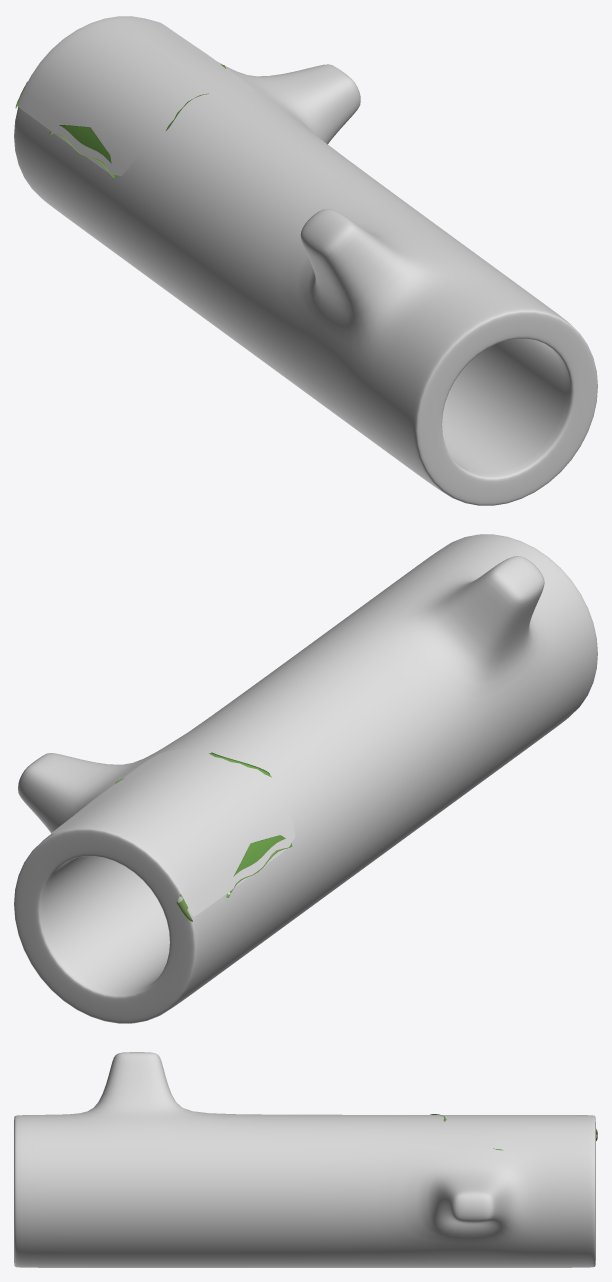
File: Tree trunk.fbx
The picture shows the model from 3 angles, top to bottom: view 1: azimuth 30°, elevation 25°; view 2: azimuth 150°, elevation 25°; view 3: azimuth 270°, elevation 25°; orthographic projection. The views are drawn at different scales.
Visible parts, largest first — view 1: 柱体.003, 柱体.004; view 2: 柱体.003, 柱体.004; view 3: 柱体.003.
Part boxes in pixels (x1,y1,x2,y2): 柱体.003: [14, 16, 597, 505]; 柱体.004: [15, 64, 225, 177]; 柱体.003: [14, 534, 597, 1023]; 柱体.004: [115, 752, 292, 921]; 柱体.003: [14, 1052, 595, 1267].
Bounding box in the file's own units: 414 × 162 × 139.
